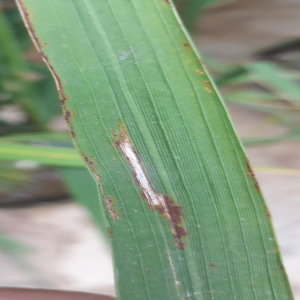Rice_Blast: (100, 119, 190, 245)
